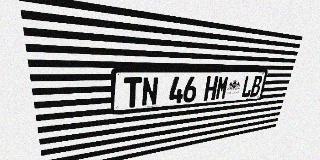4: (168, 76, 185, 104)
6: (182, 76, 198, 103)
B: (250, 75, 263, 97)
H: (203, 76, 219, 101)
L: (241, 76, 254, 98)
M: (215, 76, 230, 100)
N: (141, 77, 159, 107)
T: (124, 77, 142, 108)
